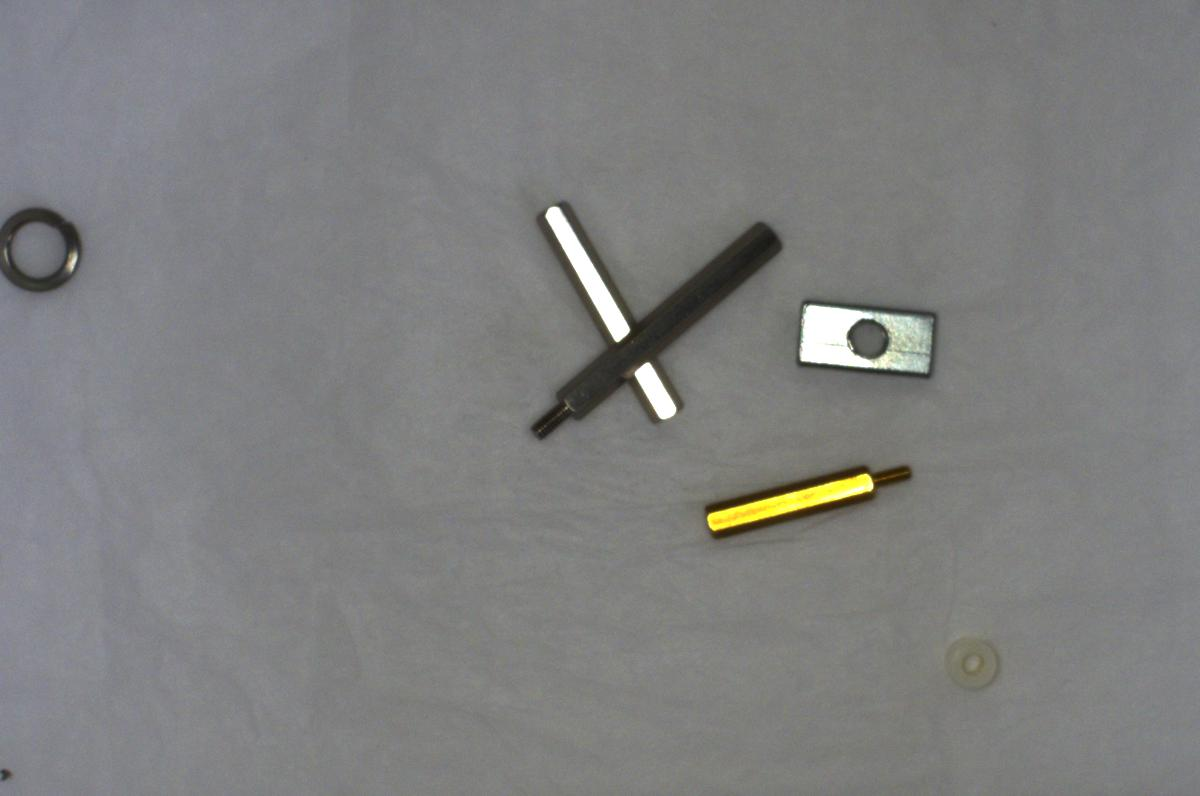Double hexagonal column: (529, 203, 687, 432)
Hexagon pillar: (692, 451, 928, 544)
Hexagonal steel column: (519, 214, 779, 444)
Plastic cushion pillar: (938, 624, 1005, 692)
Rectangular nut: (792, 294, 942, 383)
Spring washer: (1, 199, 87, 304)
